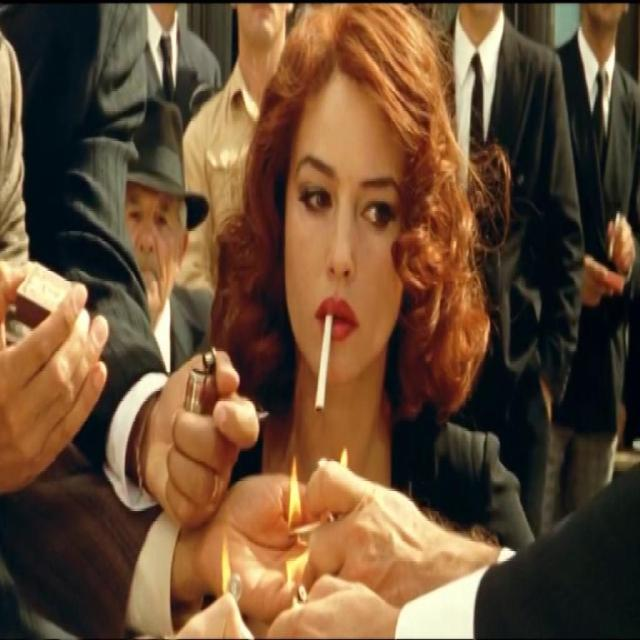smoking: (290, 8, 416, 426)
